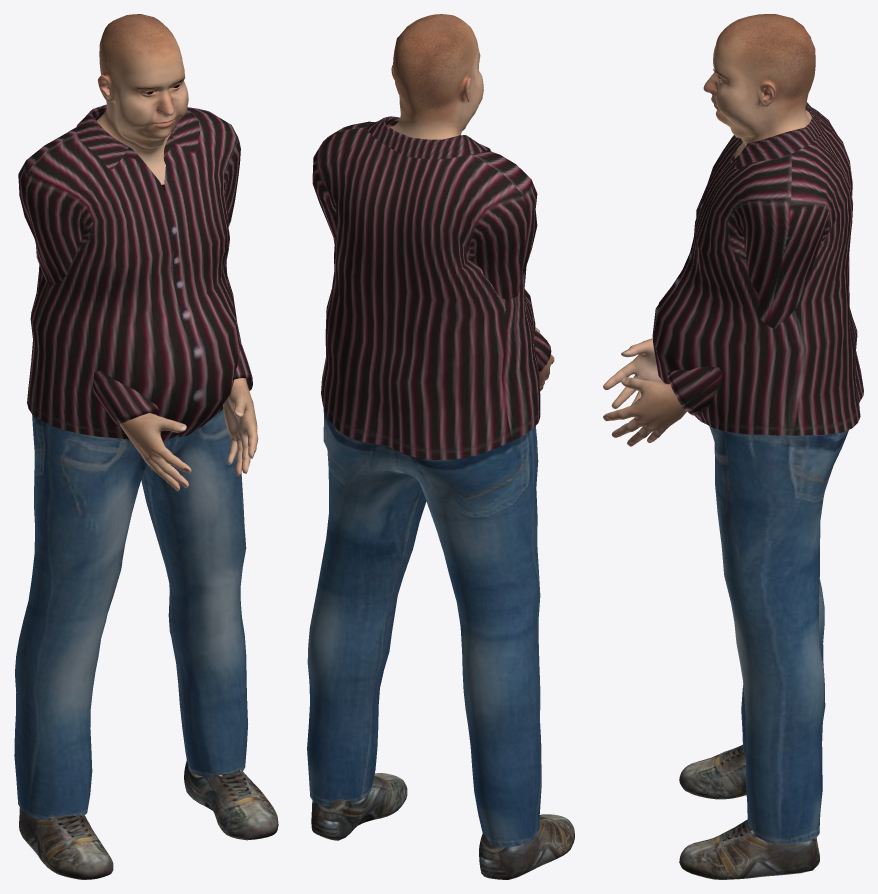
File: rask.glb
3 renders of one model, left to right at view 1: azimuth 30°, elevation 25°; view 2: azimuth 150°, elevation 25°; view 3: azimuth 270°, elevation 25°, orthographic.
Parts seen in each view (by area): view 1: Human.male_casualsuit03, Human, Human.shoes02; view 2: Human.male_casualsuit03, Human, Human.shoes02; view 3: Human.male_casualsuit03, Human, Human.shoes02.
Boxes of the visible parts, x1,y1,x2,y2 form: Human.male_casualsuit03: (14,104,252,820); Human: (96,14,258,491); Human.shoes02: (19,760,278,879); Human.male_casualsuit03: (307,116,551,847); Human: (390,14,554,391); Human.shoes02: (311,773,574,879); Human.male_casualsuit03: (652,102,863,844); Human: (603,14,815,446); Human.shoes02: (679,744,819,879).
Size of the model in its own units: 0.5169 by 1.8 by 0.5246.
Materials: 5 (5 with a texture image).
